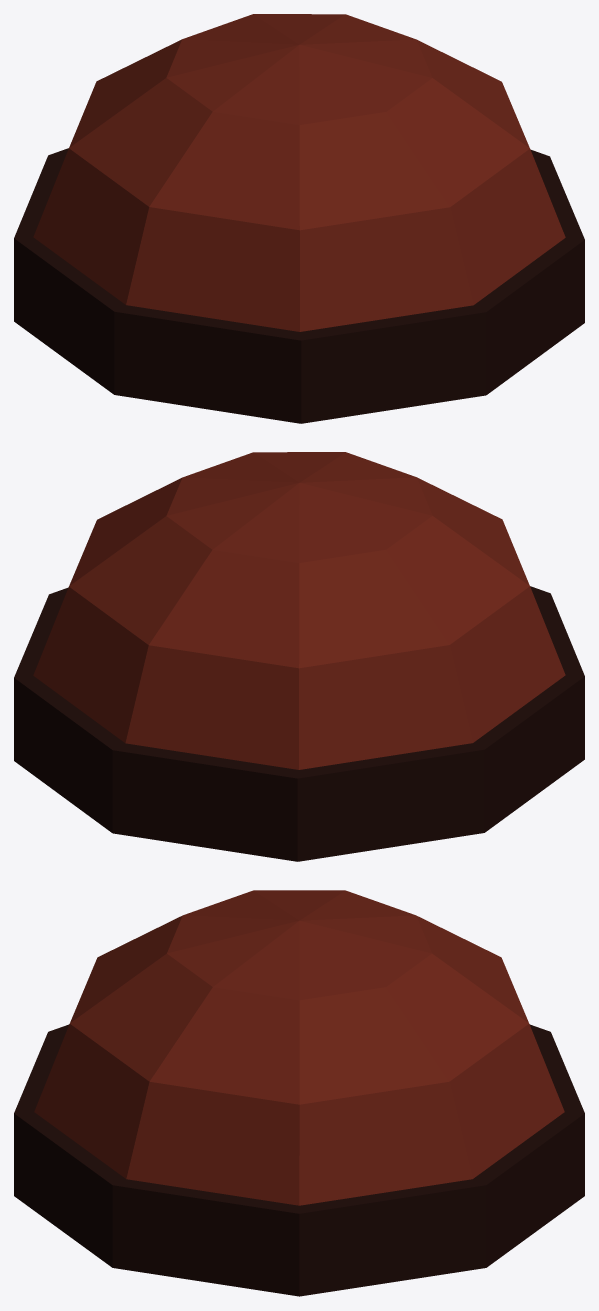
Rendered from Hat.fbx.
3 views of the same model, one above another, from view 1: azimuth 30°, elevation 25°; view 2: azimuth 150°, elevation 25°; view 3: azimuth 270°, elevation 25° (orthographic).
Parts seen in each view (by area): view 1: Hat; view 2: Hat; view 3: Hat.
Part boxes in pixels (x1=…): Hat: x1=14, y1=14, x2=584, y2=423; Hat: x1=14, y1=452, x2=584, y2=861; Hat: x1=14, y1=890, x2=584, y2=1296.
Size of the model in its own units: 259 by 130 by 265.
